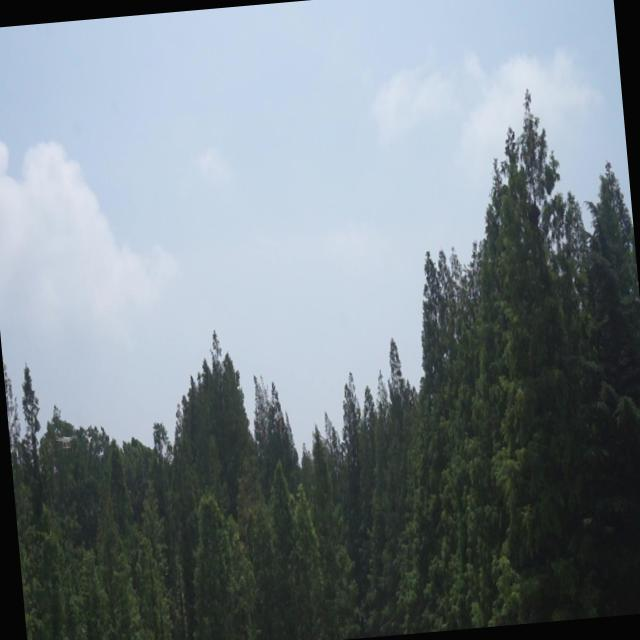drone: (54, 426, 82, 453)
